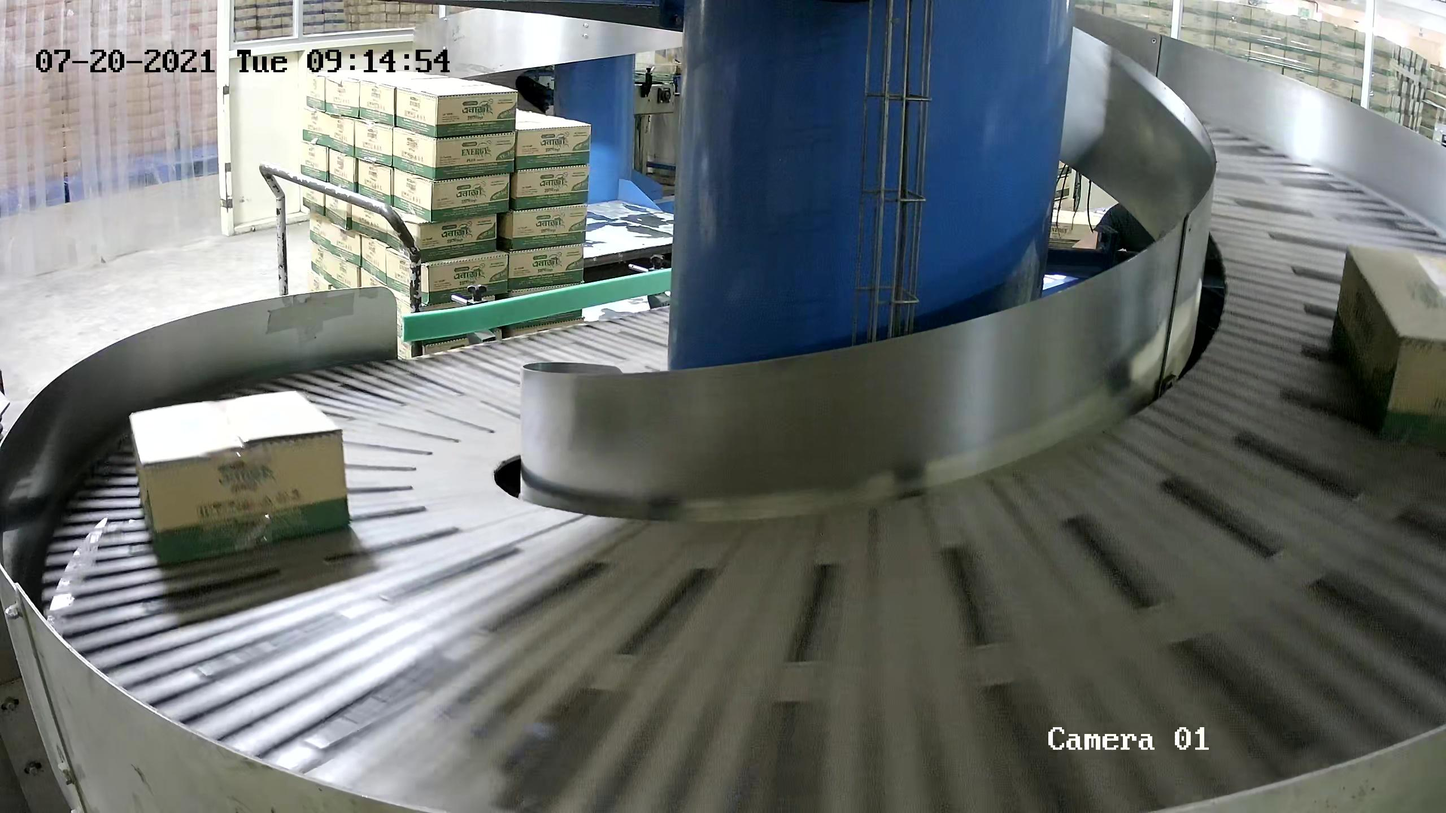Box: (128, 389, 352, 566), (1330, 244, 1446, 440)
